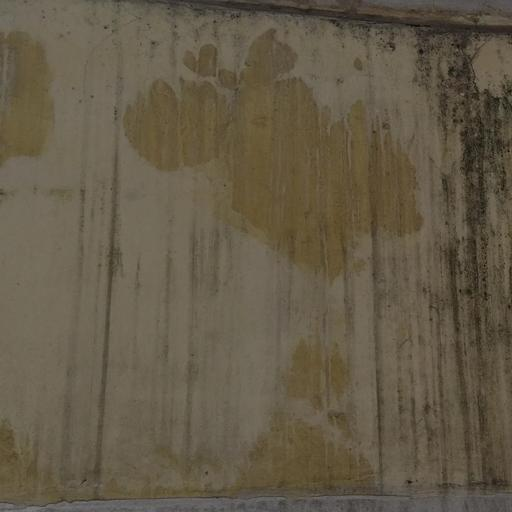stain: (119, 15, 434, 294), (0, 316, 406, 509), (0, 0, 90, 236)
